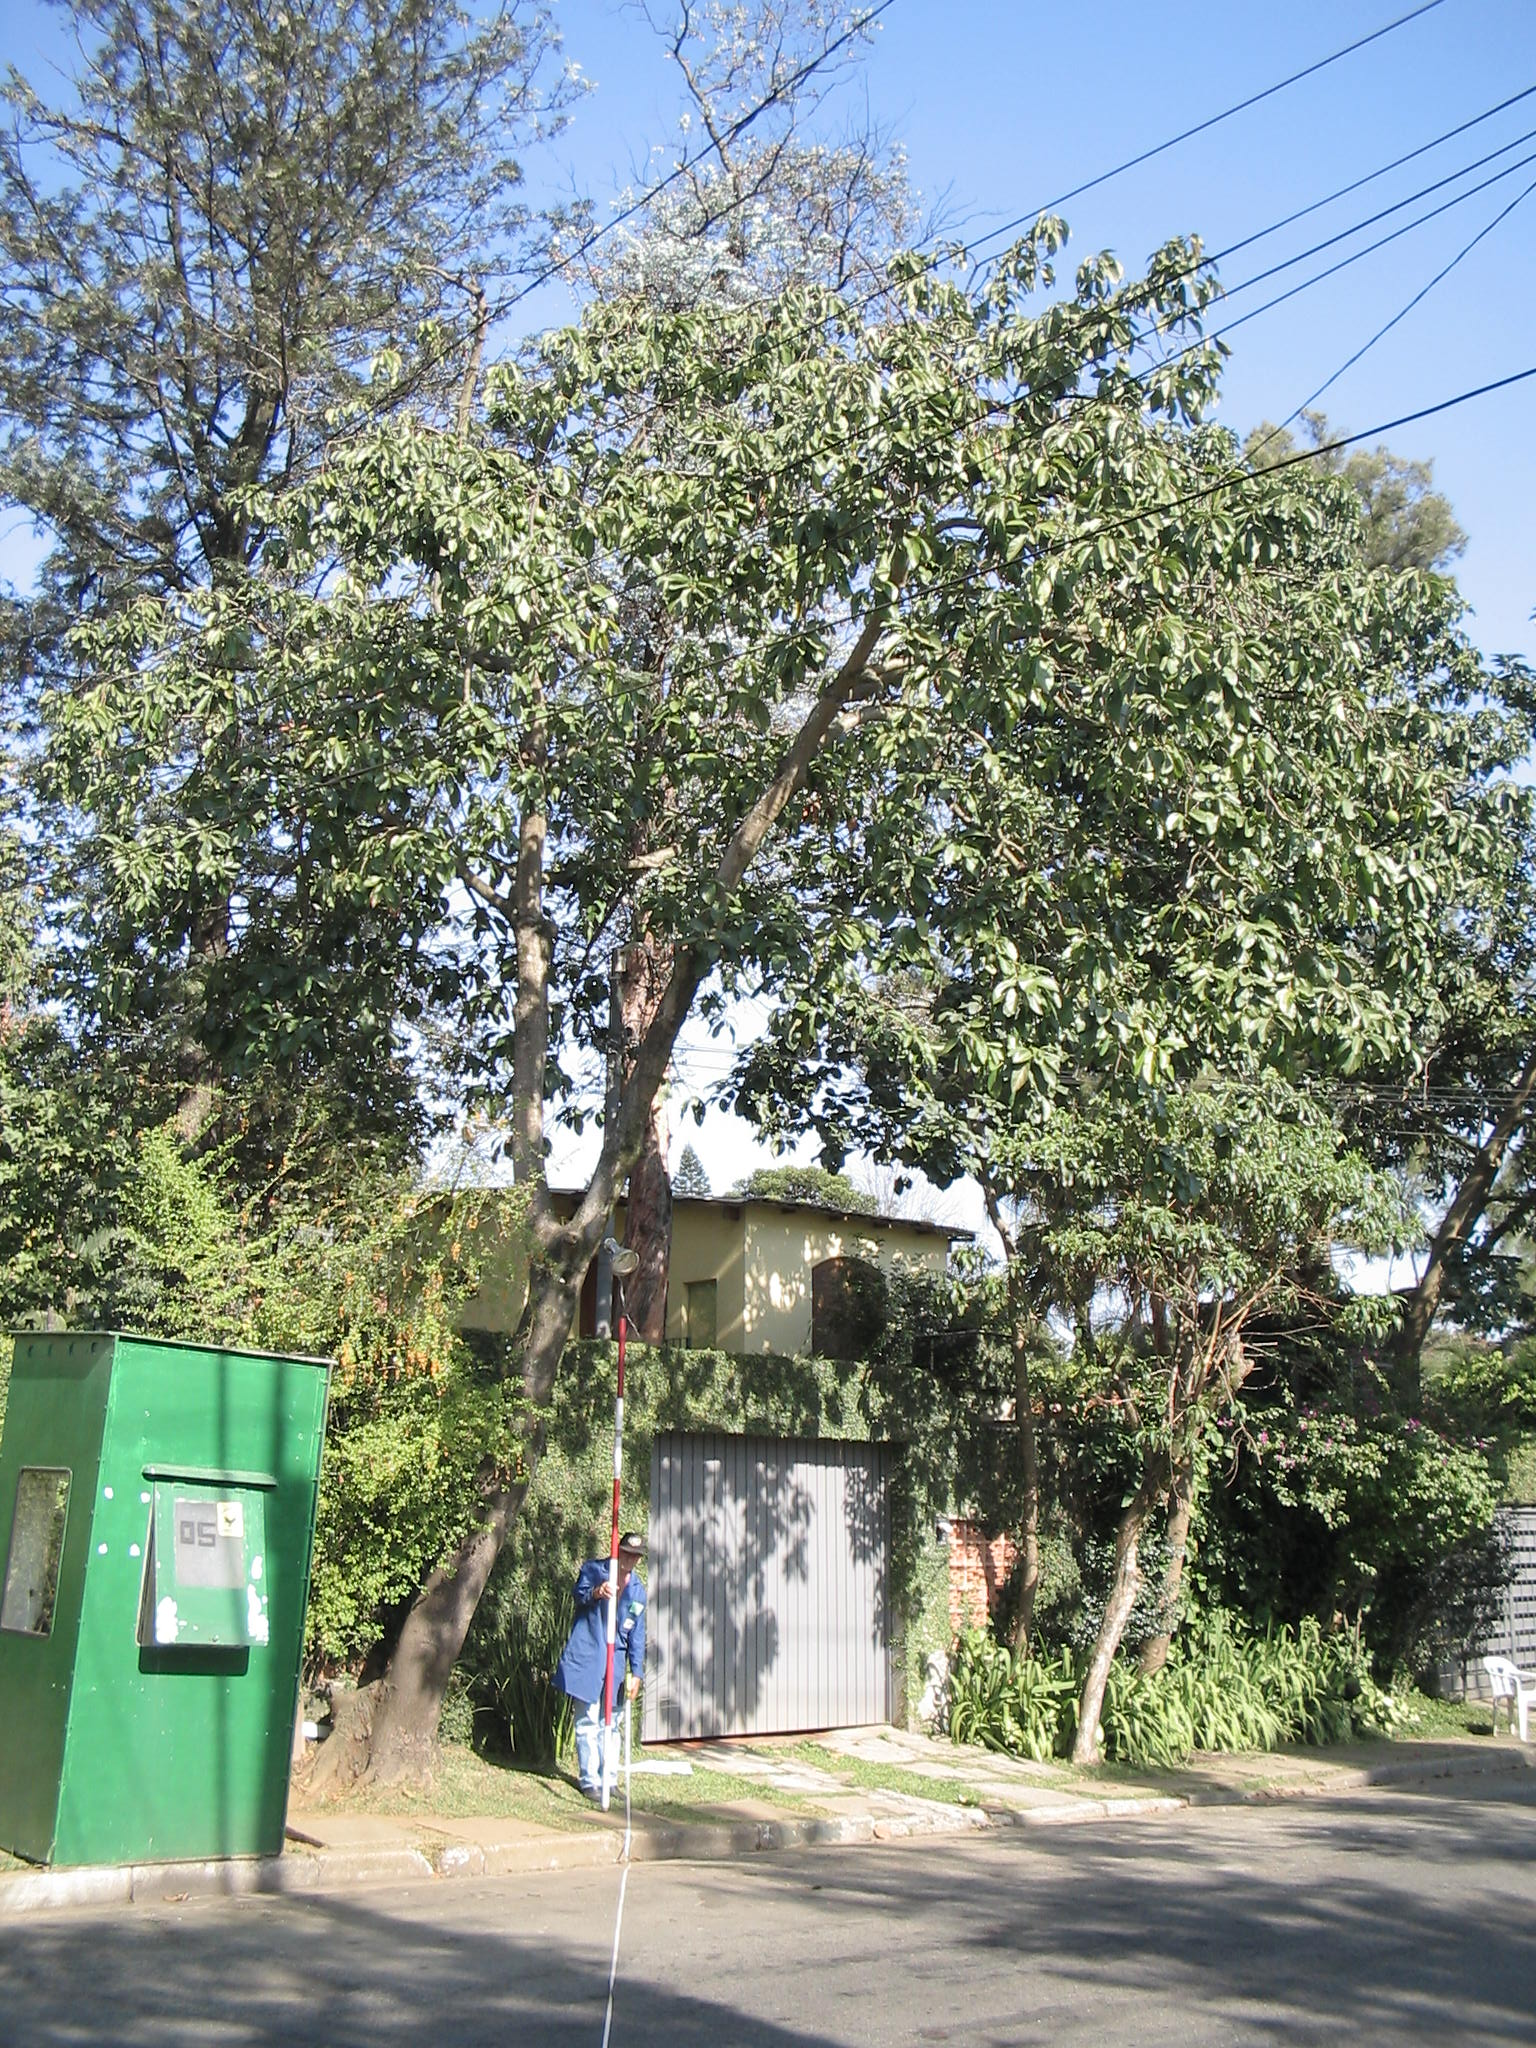crown: (74, 211, 1496, 1159)
stem: (350, 1247, 595, 1782)
stick: (595, 1319, 645, 1813)
tree: (69, 210, 1509, 1785)
